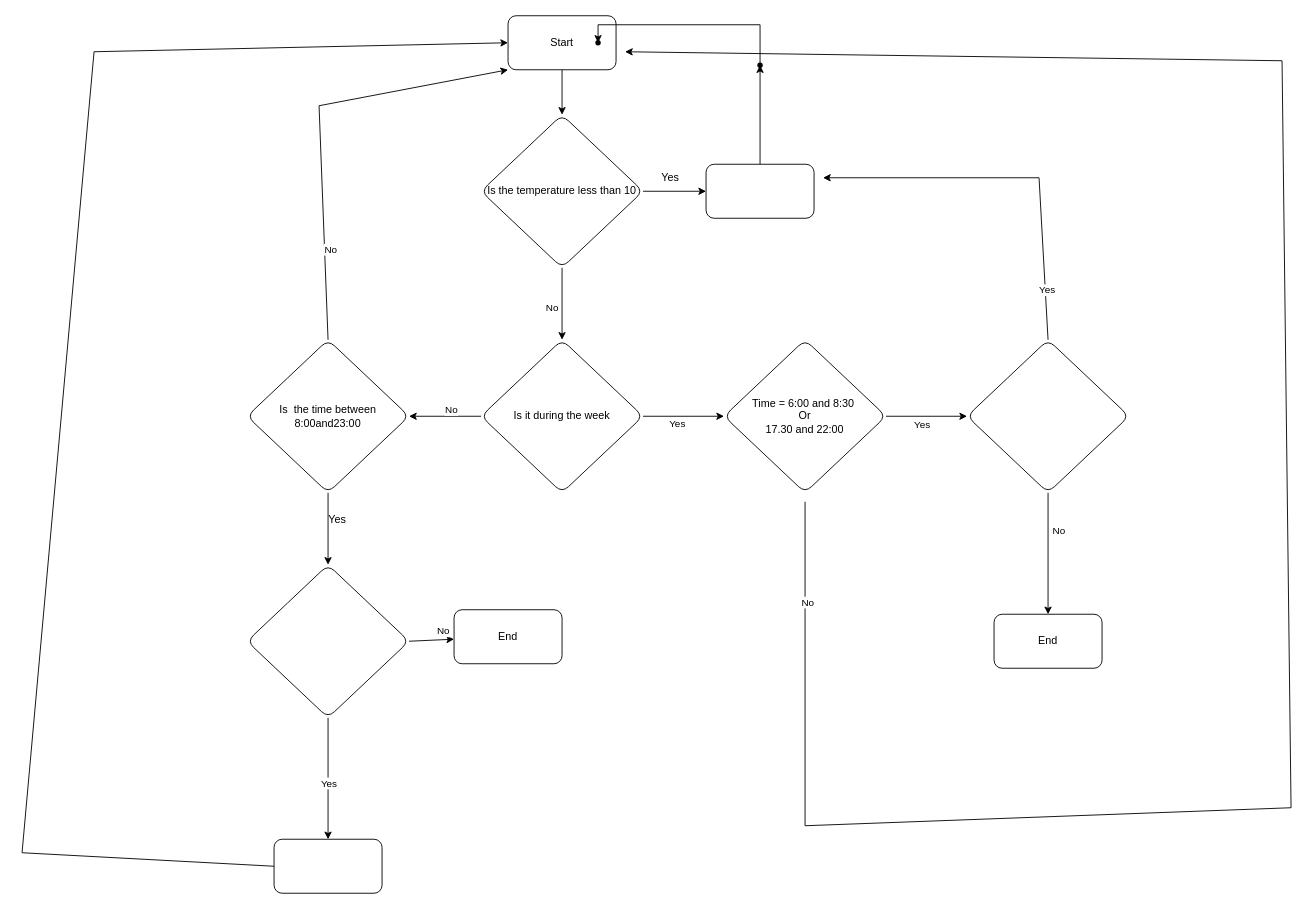
This 1314x909 diagram has some shape labels left out. Here are the shapes that lost their labels. From the top down, the centre of each, then its label:
the point at 759,190: Turn on boiler
the point at 1047,416: Is temperature less than 20
the point at 327,641: Is the temperature less than 22
the point at 327,865: Turn on the boiler
